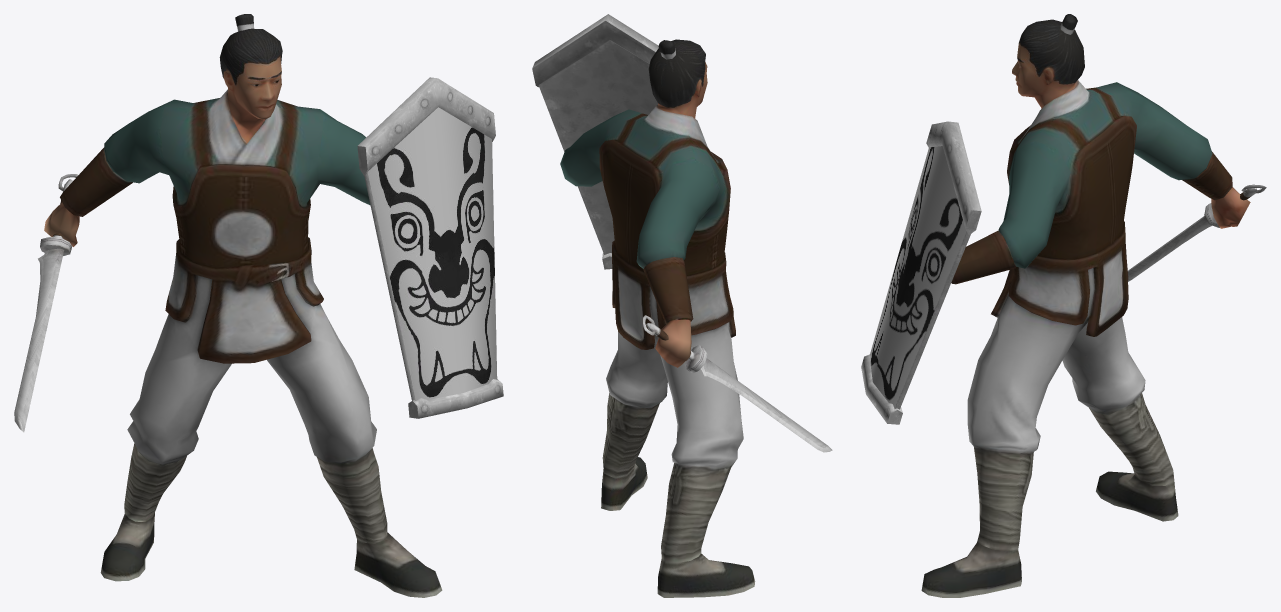
File: 26-daoswordsman.glb
3 views of the same model, side by side, from view 1: azimuth 30°, elevation 25°; view 2: azimuth 150°, elevation 25°; view 3: azimuth 270°, elevation 25° (orthographic). The views are drawn at different scales.
Size of the model in its own units: 1.52 by 2.03 by 1.42.
Materials: 4 (4 with a texture image).
